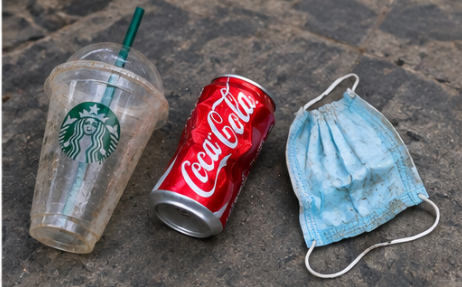Trash: (282, 70, 434, 277)
metal: (148, 72, 282, 244)
plastic: (28, 36, 171, 257)
